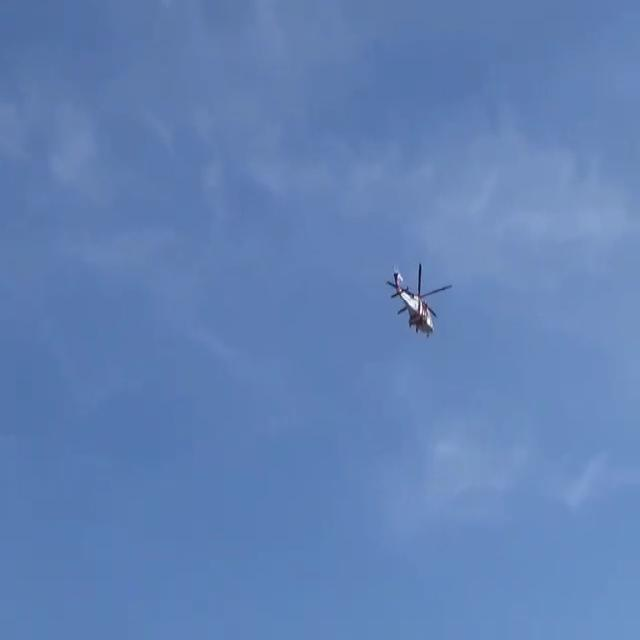Helicopter: (375, 251, 462, 349)
